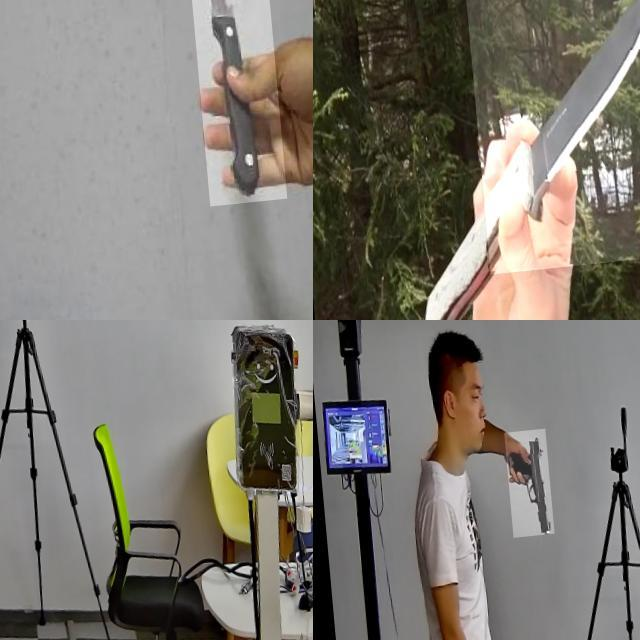-: (461, 0, 640, 278), (179, 0, 279, 213)
gun-knife-thesis - v11 Yolov5 augmented: (501, 434, 548, 542), (0, 320, 23, 357)
